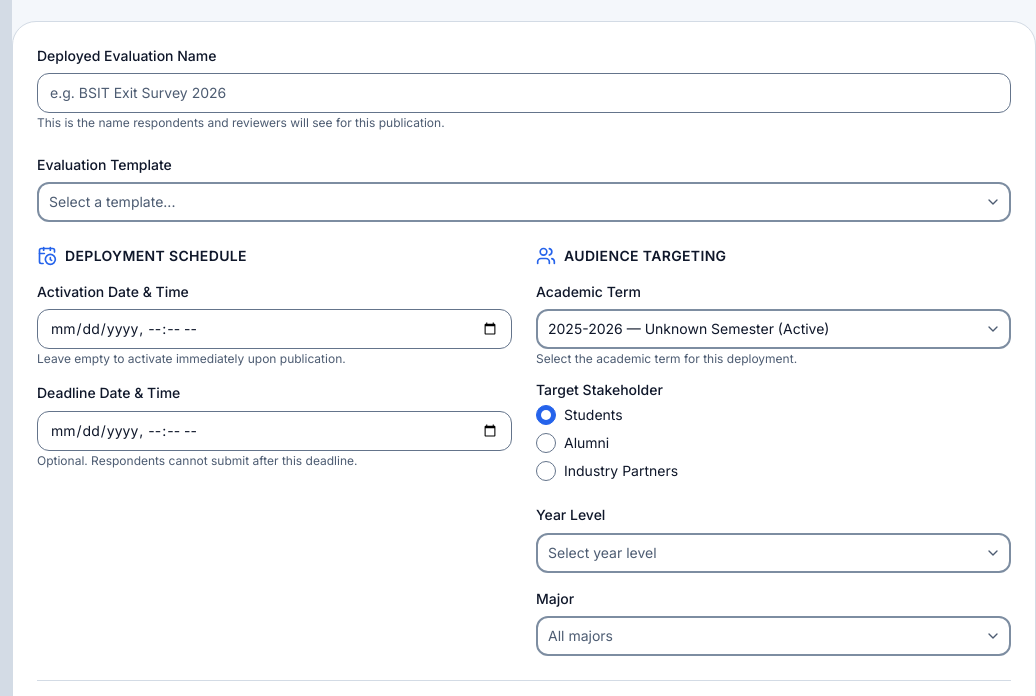
PublishCentralDeploymentForm › requires a template, term, and year level before previewing
In the field labelled "Deployed Evaluation Name": (524, 93) [37, 73, 1011, 113], type "BSIT Exit Survey 2026"
(page scrolled)
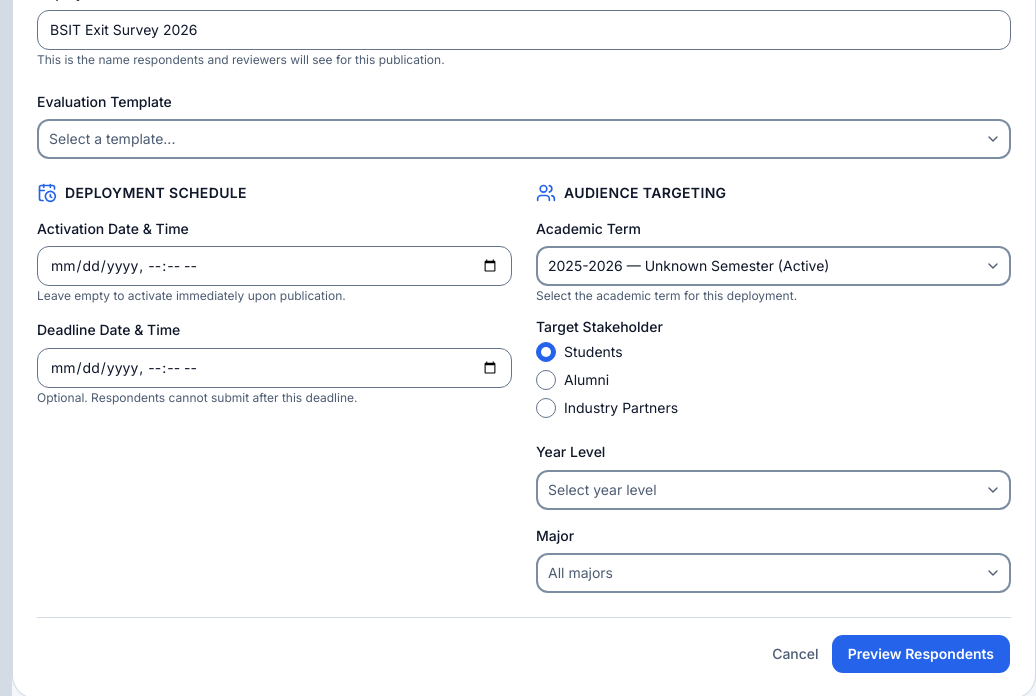
Click the button "Preview Respondents": (921, 654) [831, 634, 1011, 674]
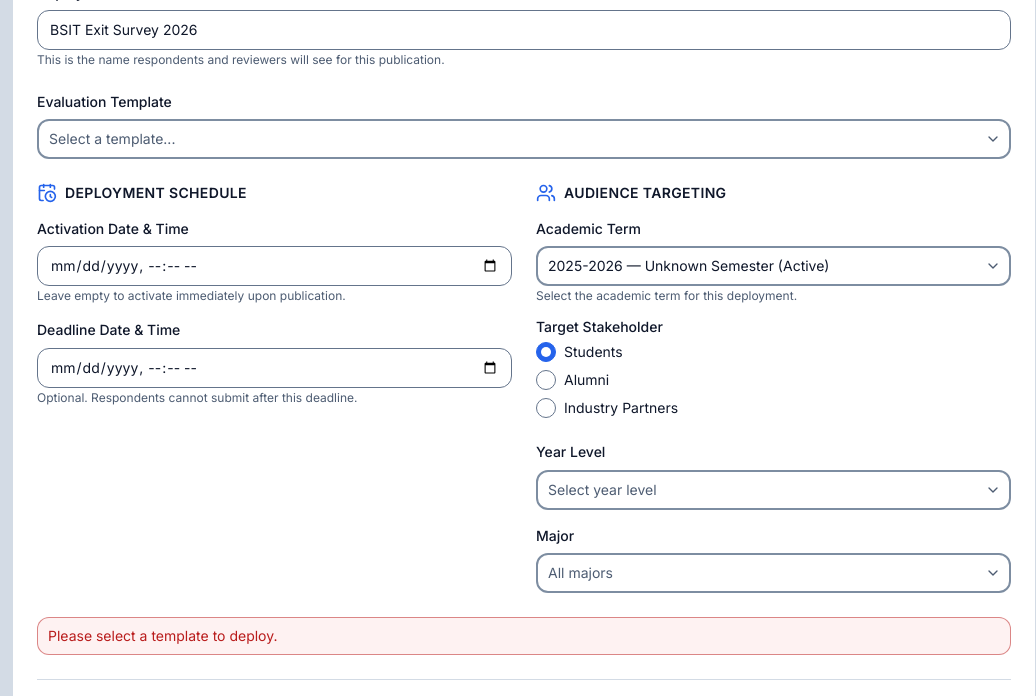
Now the message reads "Please select a template to deploy.", box [48, 627, 278, 644]
Click the dropdown named "Evaluation Template": (112, 139) [37, 119, 1011, 159]
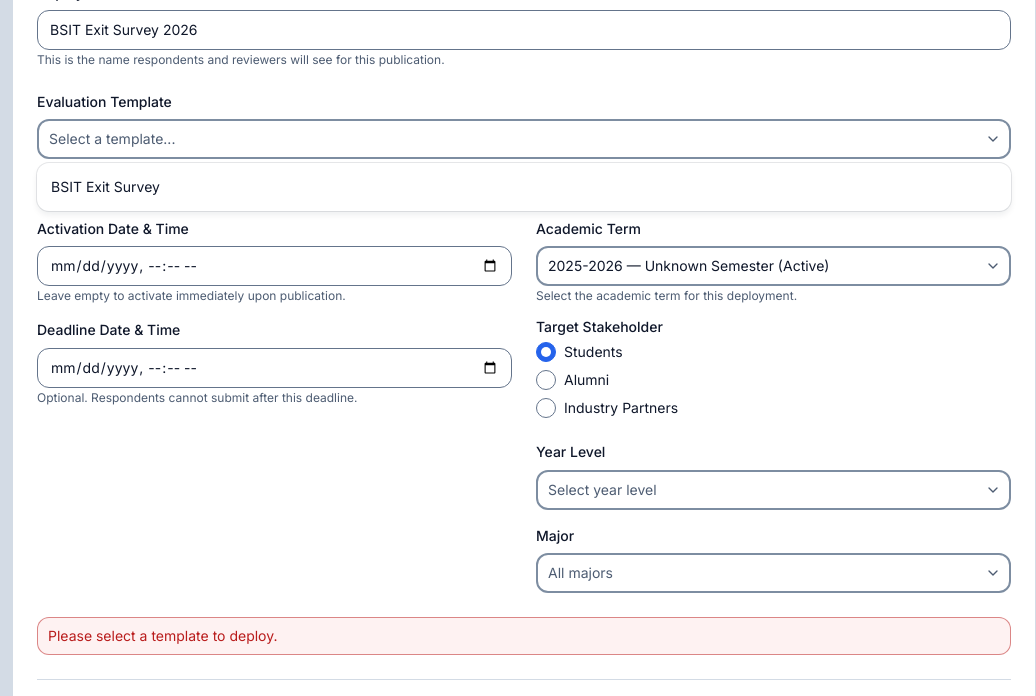
Click the option "BSIT Exit Survey": (106, 186) [51, 178, 160, 195]
(page scrolled)
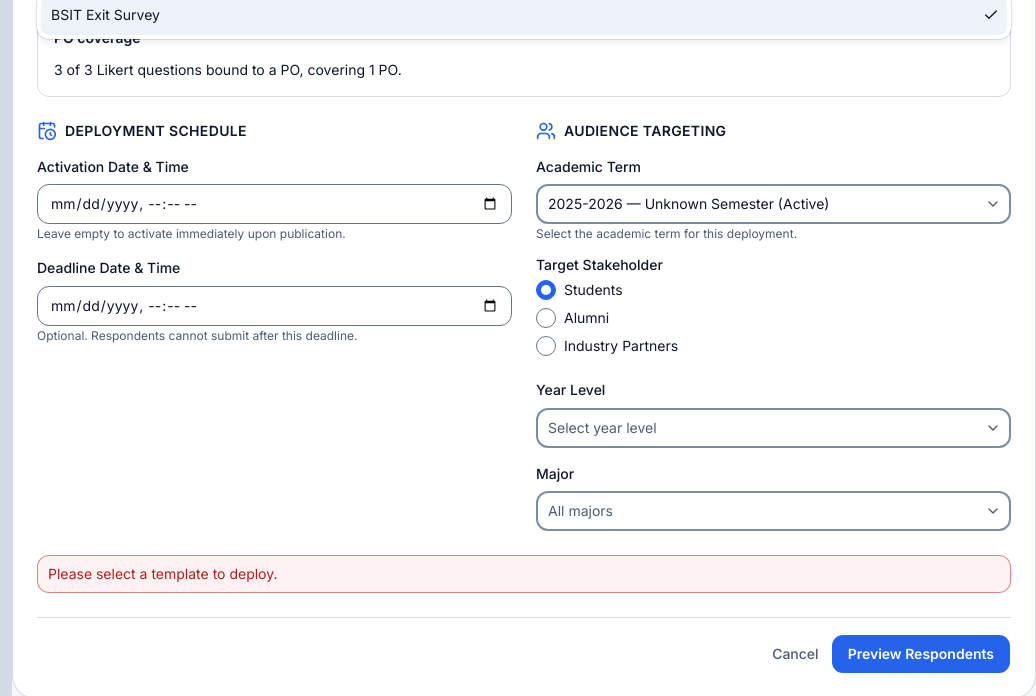
Click the button "Preview Respondents": (921, 654) [831, 634, 1011, 674]
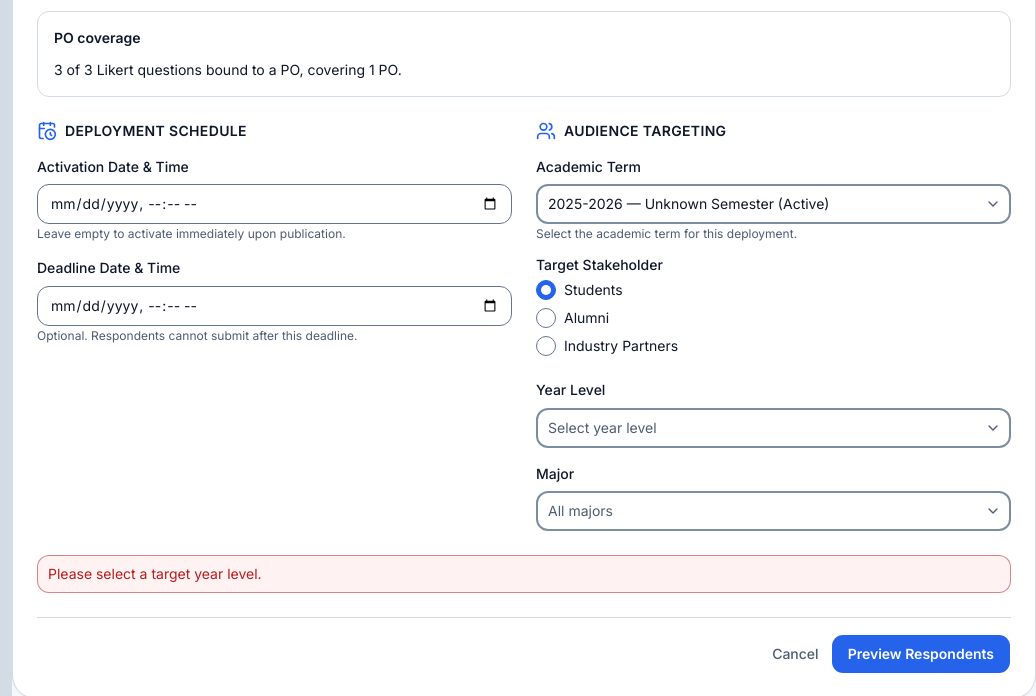
Now the message reads "Please select a target year level.", box [48, 565, 262, 582]
